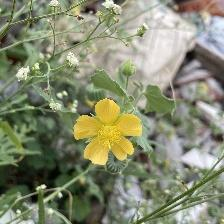indian mallow: (74, 98, 144, 166)
